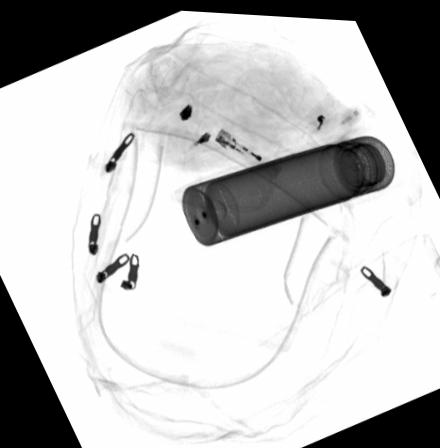Lighter: (213, 124, 266, 163)
